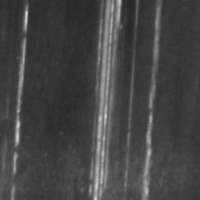scratches: (83, 1, 132, 198), (135, 3, 166, 199), (10, 6, 33, 180)
